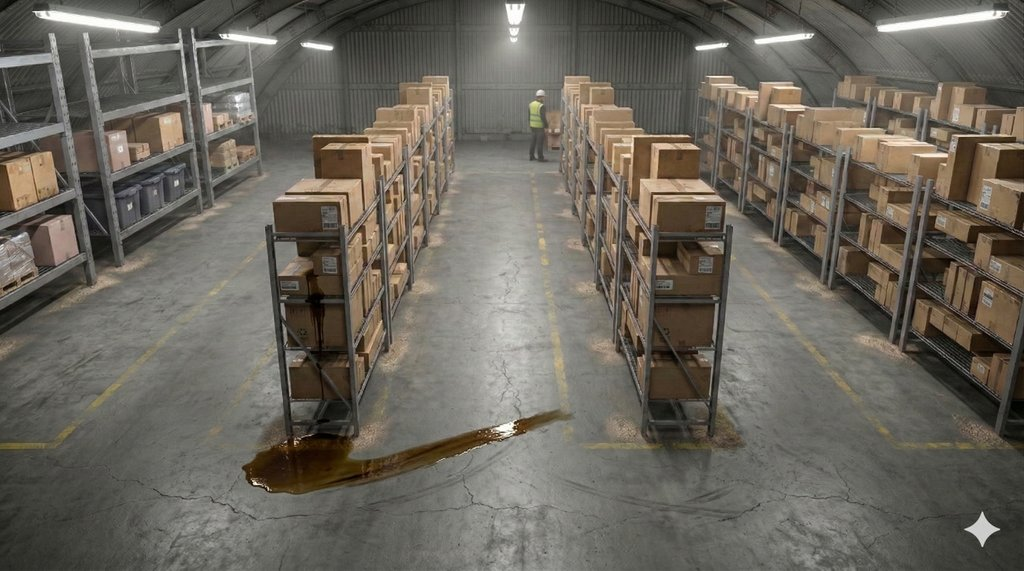empty_shelf: (83, 13, 192, 107), (0, 29, 76, 139), (188, 20, 268, 91)
person: (511, 64, 560, 166)
safety_vest: (527, 95, 548, 136)
spill: (173, 419, 603, 500)
